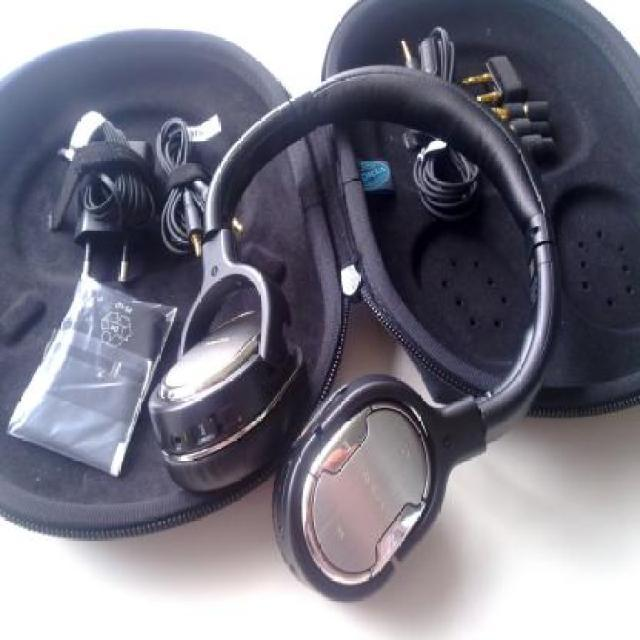earphone: (160, 9, 590, 638)
